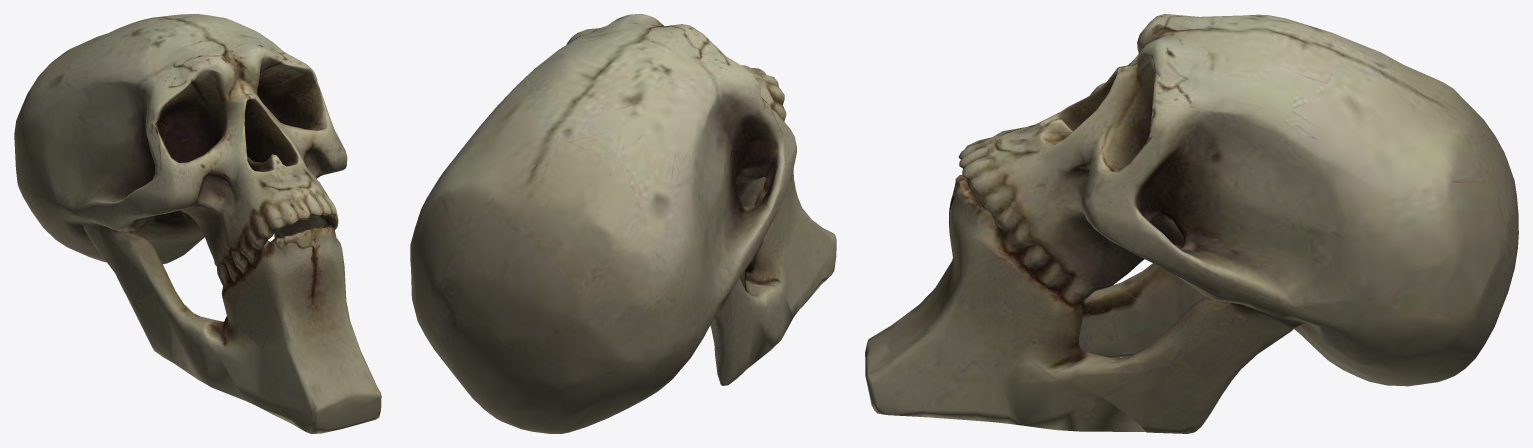
File: amulet.glb
3 renders of one model, left to right at view 1: azimuth 30°, elevation 25°; view 2: azimuth 150°, elevation 25°; view 3: azimuth 270°, elevation 25°, orthographic. The views are drawn at different scales.
Visible parts, largest first — view 1: Mesh_0; view 2: Mesh_0; view 3: Mesh_0.
Boxes of the visible parts, x1,y1,x2,y2 form: Mesh_0: (14,14,381,433); Mesh_0: (410,14,836,433); Mesh_0: (865,14,1518,433).
Bounding box in the file's own units: 0.9675 × 1.17 × 1.9.
1 material, 1 textured.
